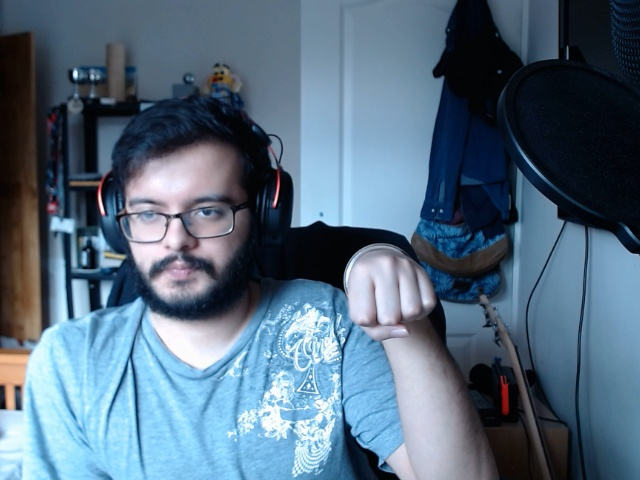Yes: (331, 238, 454, 344)
